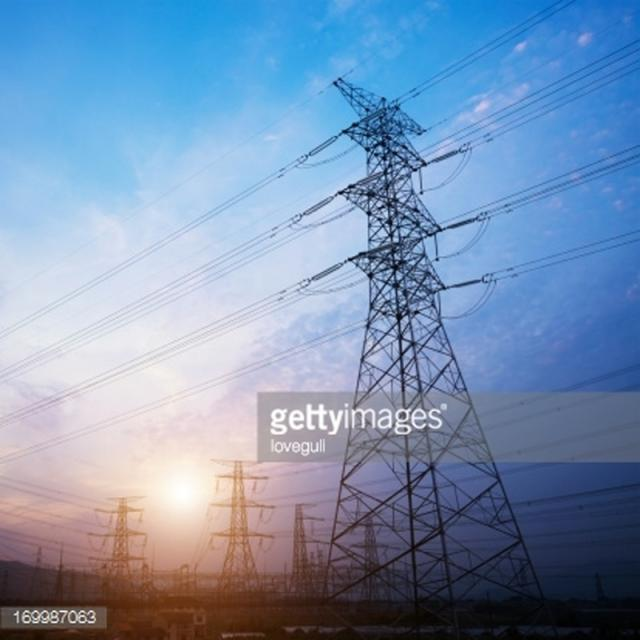non-critical vegetation: (300, 70, 518, 572)
